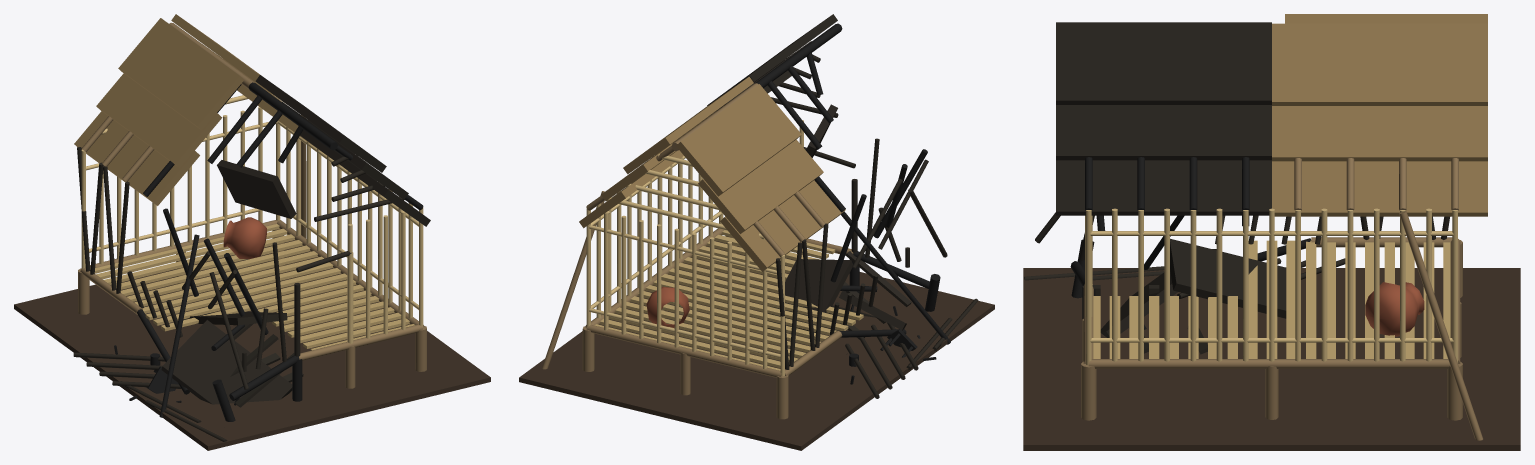
Rendered from village-hut-damaged.glb.
The picture shows the model from 3 angles, left to right: view 1: azimuth 30°, elevation 25°; view 2: azimuth 150°, elevation 25°; view 3: azimuth 270°, elevation 25°; orthographic projection. The views are drawn at different scales.
Parts seen in each view (by area): view 1: Mesh_GroundBase, Mesh_ThatchR_Back_L2, Mesh_Thatch_Collapsed_1, Mesh_ThatchR_Back_L1, Mesh_ThatchR_Back_L0, Mesh_Thatch_Collapsed_3, Mesh_ThatchL_Front_L2, Mesh_WaterJar, Mesh_ThatchL_Front_L0, Mesh_FloorSlat_9, Mesh_FloorSlat_4, Mesh_FloorSlat_8 (+55 smaller); view 2: Mesh_GroundBase, Mesh_ThatchR_Back_L2, Mesh_ThatchR_Back_L1, Mesh_ThatchR_Back_L0, Mesh_Thatch_Collapsed_2, Mesh_FloorBeam_B, Mesh_ThatchL_Back_L2, Mesh_FloorSlat_9, Mesh_ThatchL_Front_L2, Mesh_FloorSlat_8, Mesh_FloorSlat_1, Mesh_ThatchL_Back_L0 (+47 smaller); view 3: Mesh_GroundBase, Mesh_ThatchL_Back_L2, Mesh_ThatchL_Front_L2, Mesh_ThatchL_Front_L1, Mesh_ThatchL_Back_L1, Mesh_ThatchL_Front_L0, Mesh_ThatchL_Back_L0, Mesh_Thatch_Collapsed_2, Mesh_FloorBeam_L, Mesh_WaterJar, Mesh_LeaningPole_Intact, Mesh_ThatchR_Back_L2 (+40 smaller).
Part boxes in pixels (x1,y1,x2,y2): Mesh_GroundBase: (14,240,490,450); Mesh_ThatchR_Back_L2: (118,18,243,130); Mesh_Thatch_Collapsed_1: (161,320,292,404); Mesh_ThatchR_Back_L1: (96,73,222,168); Mesh_ThatchR_Back_L0: (74,111,199,205); Mesh_Thatch_Collapsed_3: (217,160,296,218); Mesh_ThatchL_Front_L2: (255,75,386,172); Mesh_WaterJar: (223,217,266,259); Mesh_ThatchL_Front_L0: (300,130,430,226); Mesh_FloorSlat_9: (153,273,347,325); Mesh_FloorSlat_4: (120,245,310,295); Mesh_FloorSlat_8: (145,268,340,319); Mesh_GroundBase: (519,240,994,450); Mesh_ThatchR_Back_L2: (676,84,801,196); Mesh_ThatchR_Back_L1: (698,139,823,233); Mesh_ThatchR_Back_L0: (720,180,845,271); Mesh_Thatch_Collapsed_2: (762,259,852,332); Mesh_FloorBeam_B: (586,325,781,377); Mesh_ThatchL_Back_L2: (623,76,753,174); Mesh_FloorSlat_9: (661,274,855,325); Mesh_ThatchL_Front_L2: (707,14,837,105); Mesh_FloorSlat_8: (653,280,848,330); Mesh_FloorSlat_1: (600,318,780,368); Mesh_ThatchL_Back_L0: (579,150,683,228); Mesh_GroundBase: (1023,268,1520,450); Mesh_ThatchL_Back_L2: (1272,23,1487,105); Mesh_ThatchL_Front_L2: (1056,22,1271,104); Mesh_ThatchL_Front_L1: (1056,105,1271,160); Mesh_ThatchL_Back_L1: (1272,106,1487,161); Mesh_ThatchL_Front_L0: (1056,160,1271,215); Mesh_ThatchL_Back_L0: (1272,161,1487,216); Mesh_Thatch_Collapsed_2: (1170,238,1286,318); Mesh_FloorBeam_L: (1088,359,1450,368); Mesh_WaterJar: (1365,282,1424,336); Mesh_LeaningPole_Intact: (1399,211,1482,440); Mesh_ThatchR_Back_L2: (1285,14,1487,23).
Bounding box in the file's own units: 3.31 × 3.12 × 3.8.
